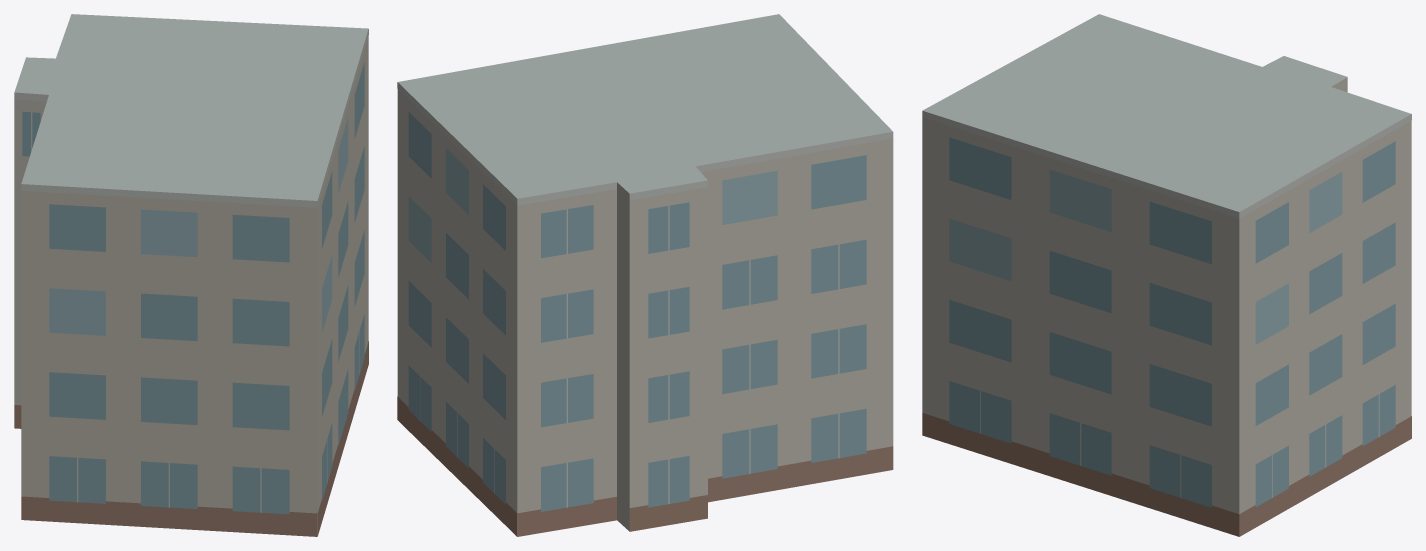
File: survey-upis-32684312.glb
3 renders of one model, left to right at view 1: azimuth 30°, elevation 25°; view 2: azimuth 150°, elevation 25°; view 3: azimuth 270°, elevation 25°, orthographic. The views are drawn at different scales.
Visible parts, largest first — view 1: survey-upis-32684312.tmp; view 2: survey-upis-32684312.tmp; view 3: survey-upis-32684312.tmp.
Part boxes in pixels (bbox=[...]): survey-upis-32684312.tmp: bbox=[14, 14, 368, 536]; survey-upis-32684312.tmp: bbox=[397, 14, 893, 536]; survey-upis-32684312.tmp: bbox=[922, 14, 1411, 536].
Bounding box in the file's own units: 15.97 × 12.2 × 16.67.
